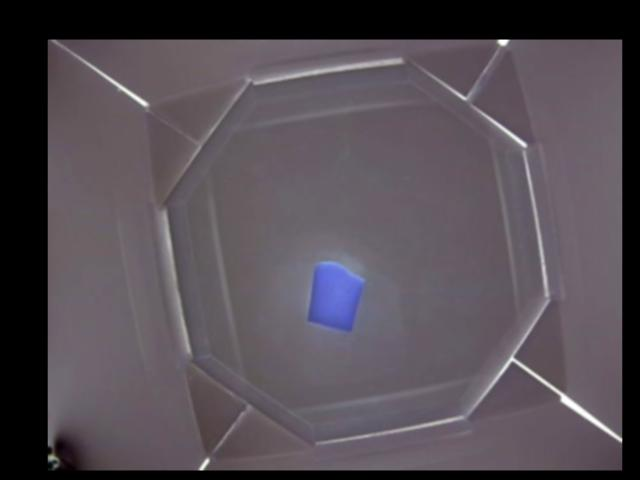Potato: (307, 260, 363, 330)
